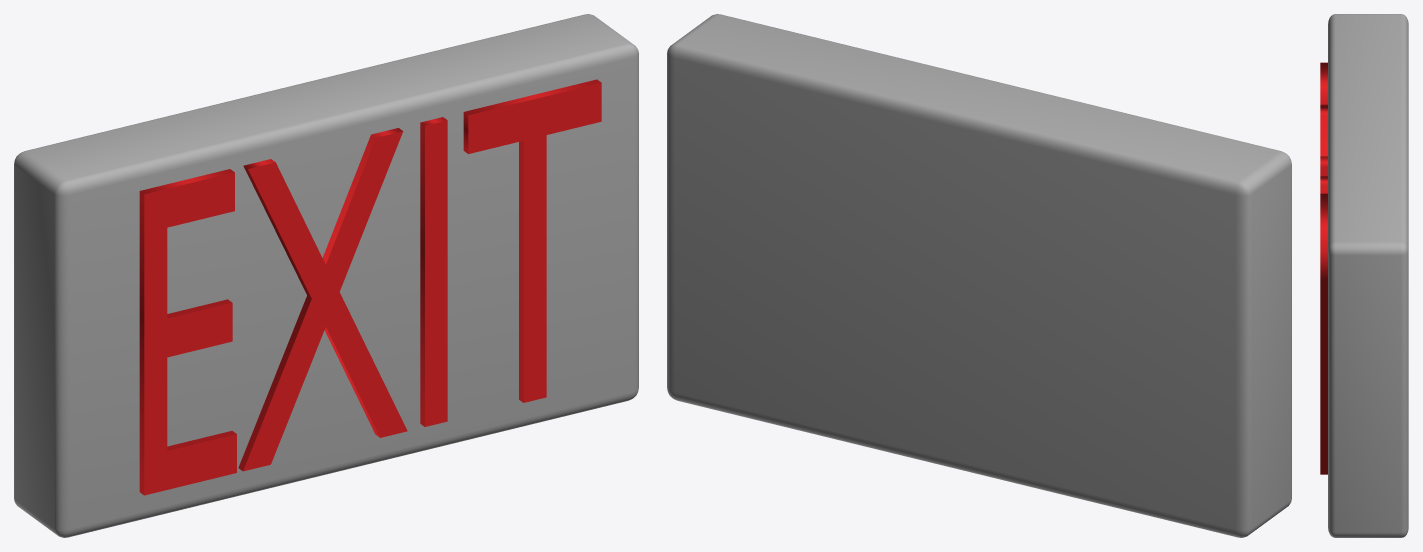
3 renders of one model, left to right at view 1: azimuth 30°, elevation 25°; view 2: azimuth 150°, elevation 25°; view 3: azimuth 270°, elevation 25°, orthographic. The views are drawn at different scales.
Visible parts, largest first — view 1: Exit sign, Text; view 2: Exit sign; view 3: Exit sign, Text.
Boxes of the visible parts, x1,y1,x2,y2 form: Exit sign: [14, 14, 638, 537]; Text: [139, 79, 601, 495]; Exit sign: [667, 14, 1291, 537]; Exit sign: [1328, 14, 1408, 537]; Text: [1320, 62, 1327, 474].
Size of the model in its own units: 0.8941 by 0.5222 by 0.1417.
